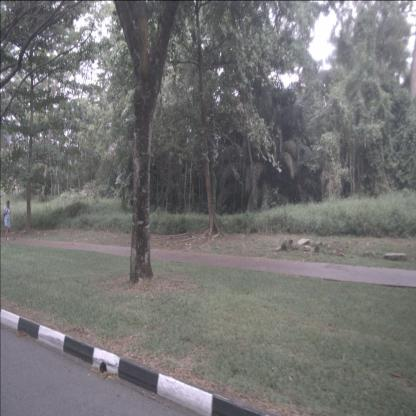human-pedestrian-adult: (3, 200, 13, 241)
